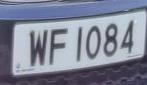0: (85, 21, 103, 63)
1: (73, 23, 86, 67)
4: (119, 16, 138, 60)
8: (102, 19, 121, 62)
F: (48, 24, 70, 70)
W: (26, 26, 50, 73)
